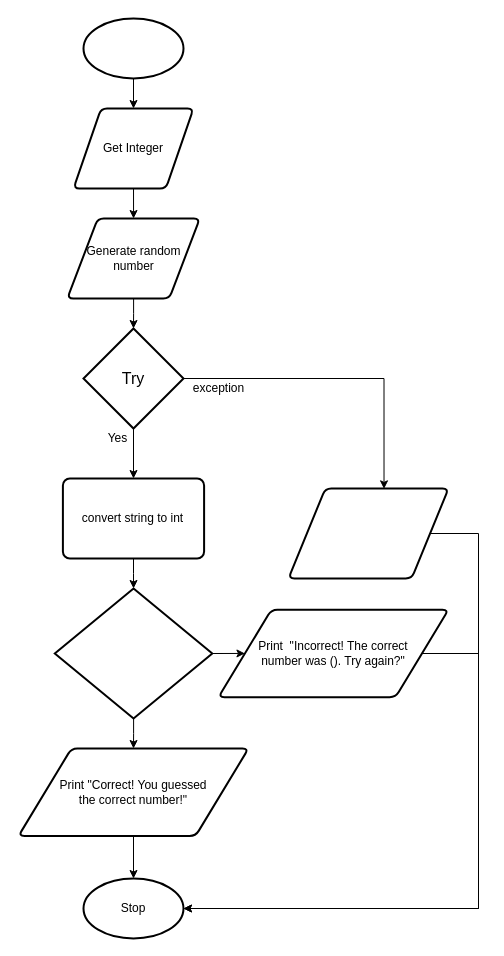
The diagram is 504 pixels wide and 956 high, and some of its shapes have lost their labels. The shapes that lost their labels are listed below. From the top down, each one's centre as x and y in pixels, then its label:
pixel 133 48: Start
pixel 368 533: Print "This is not a valid month number."
pixel 133 653: Is inputted number same as random number?
